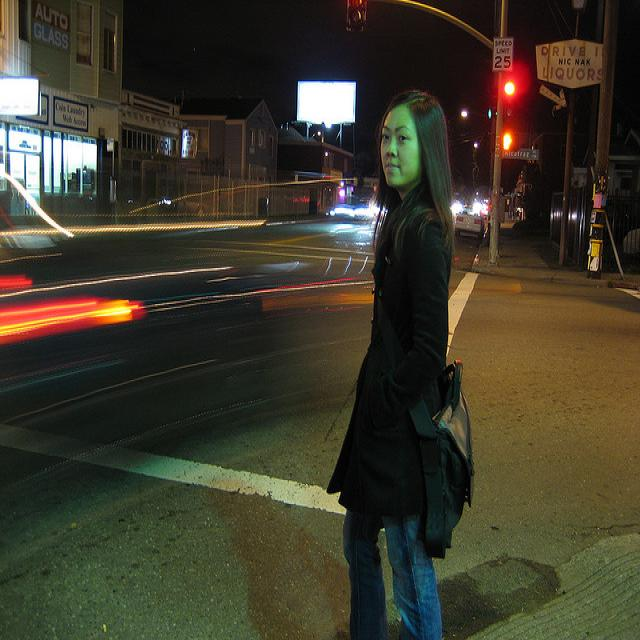Vehicle: (0, 232, 268, 468), (452, 207, 483, 241)
